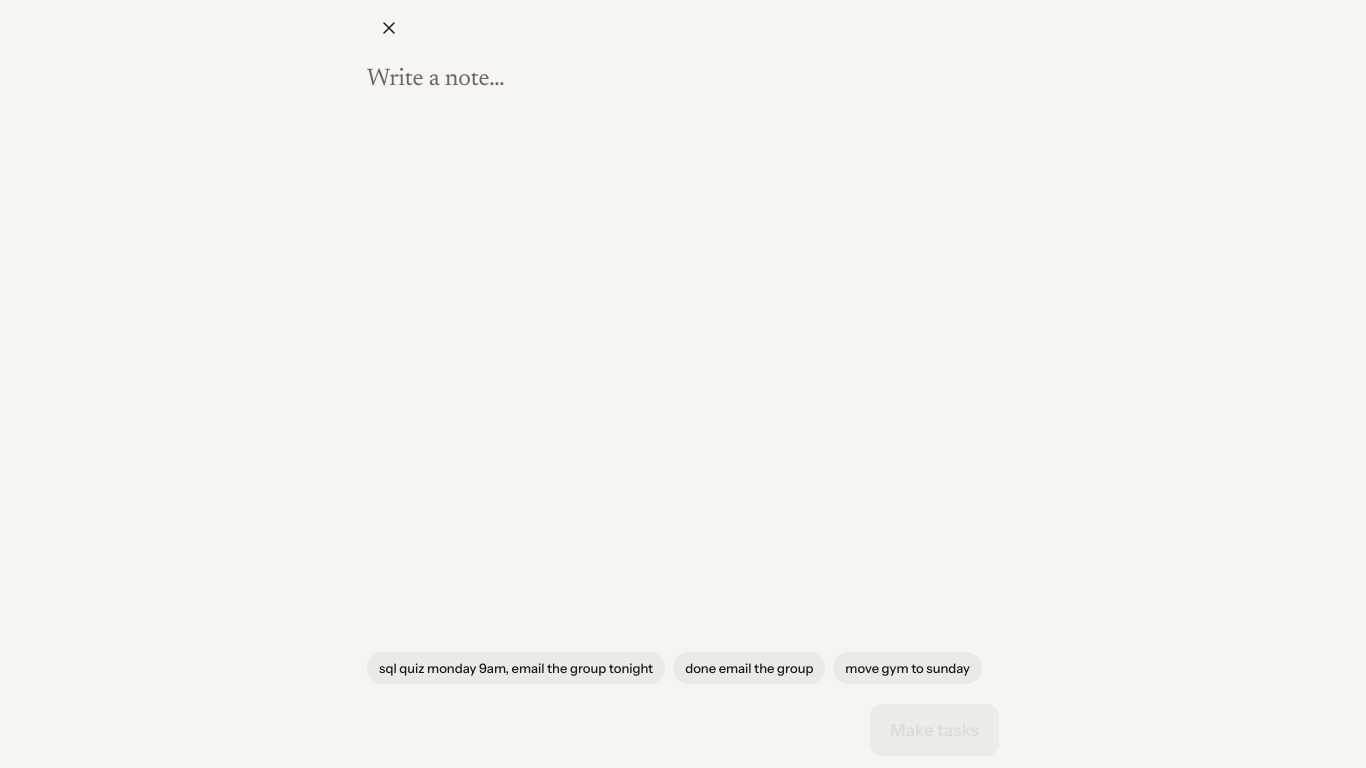
Test: NoteEditor (IM-41) › an example fills the editor and keeps focus at the end (NC-5)
Click the button "move gym to sunday" at (908, 668), box [833,652,982,684]
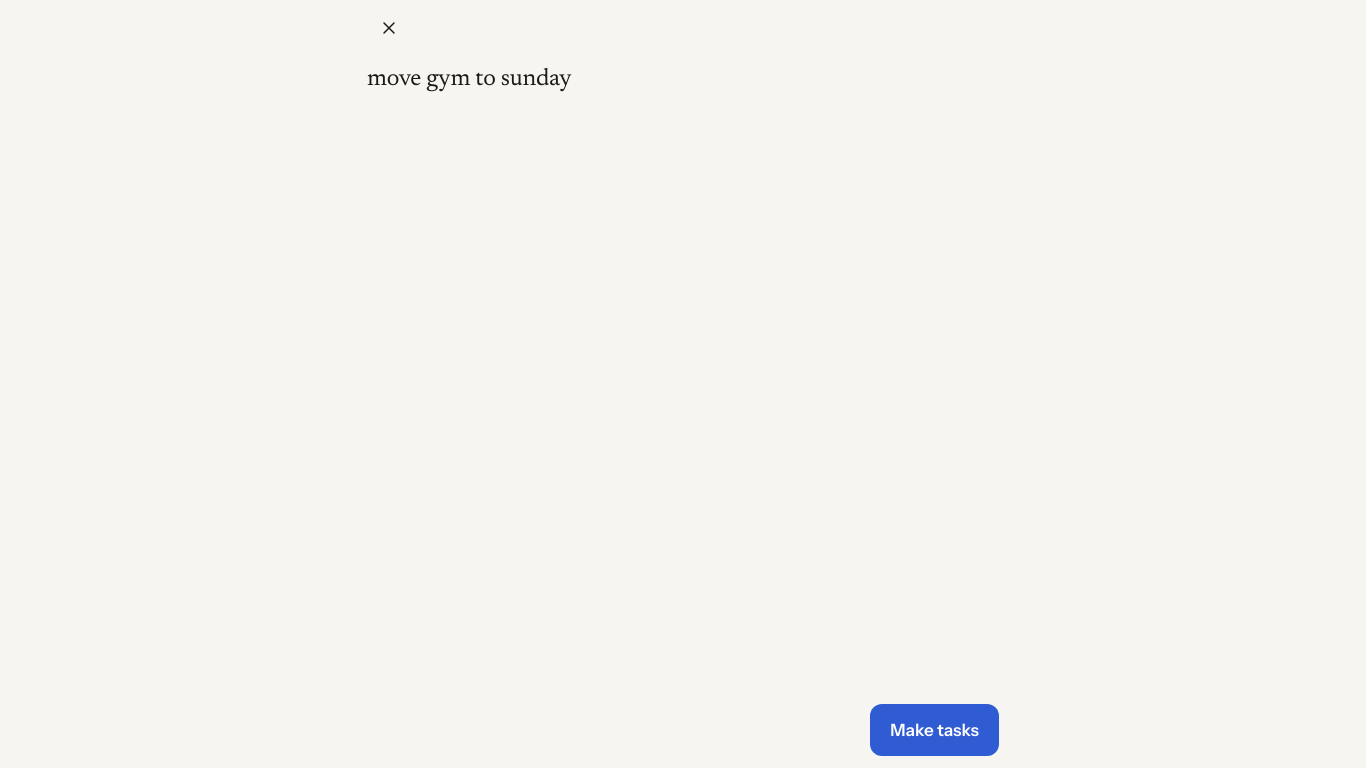
Expected: the text box named "Your note" holds "move gym to sunday", [367,56,999,696]
